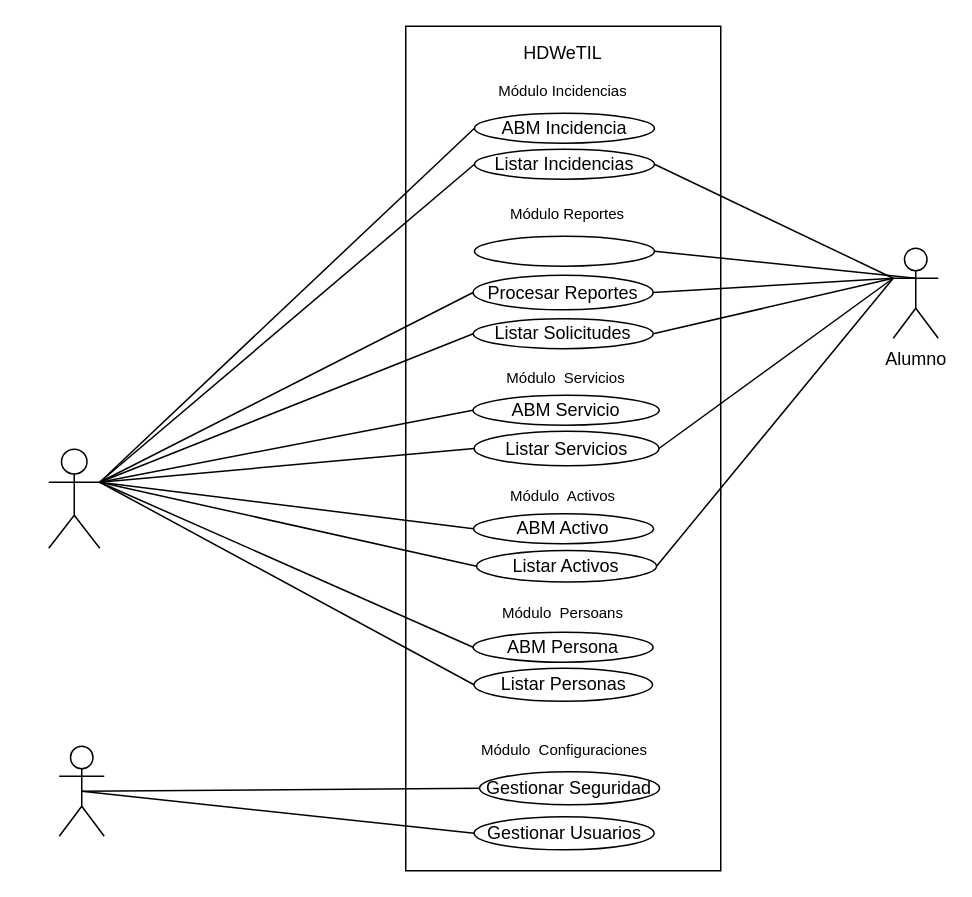
This 972x897 diagram has some shape labels left out. Each missing label, with the centre of its shape:
ABM Reporte: (563,250)
Administrador: (81,790)
Empleado: (73,498)
